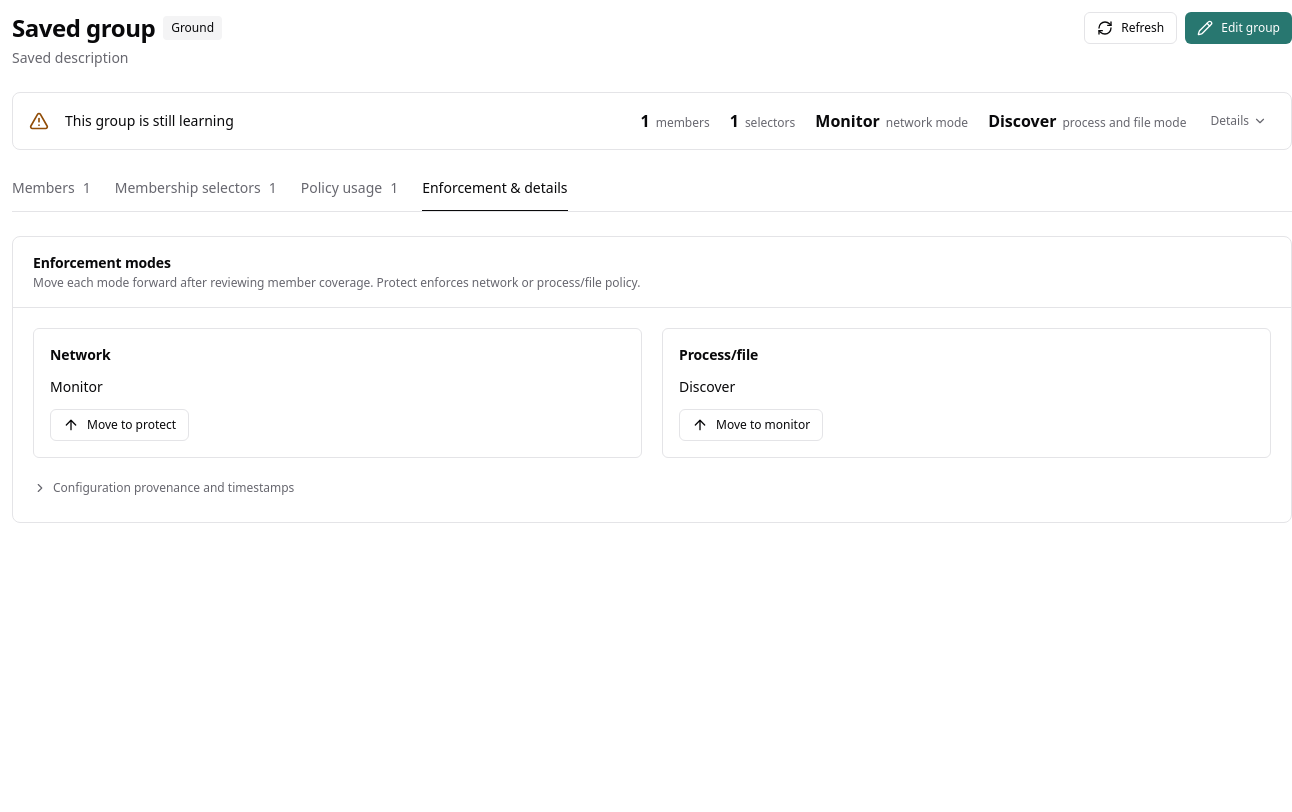
promotes a mode with cluster scope and renders mutation errors
This screenshot has width=1292, height=812.
Step 1. Click the button "Move to protect" → (120, 425), box top-left (50, 409), bottom-right (189, 441)
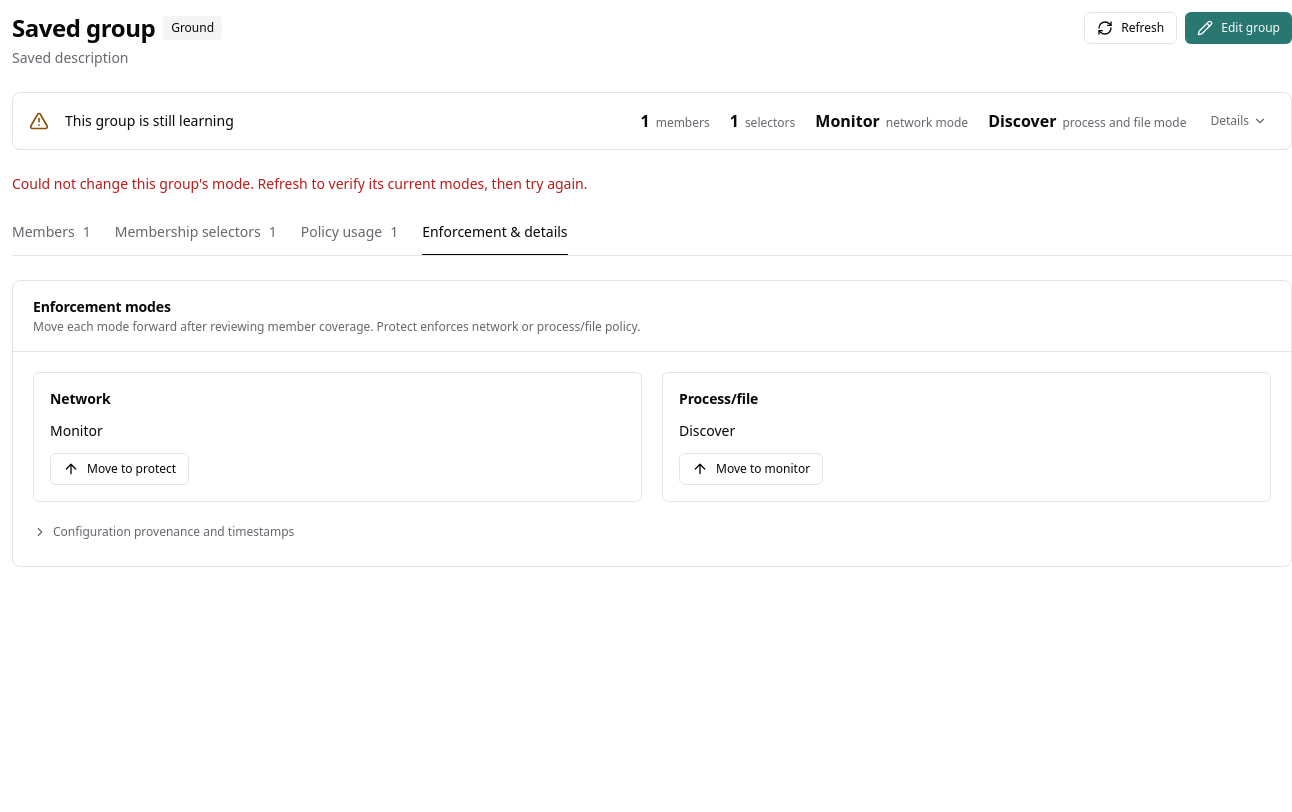
Expected: the text "Could not change this group's mode" is shown, top-left (12, 174), bottom-right (588, 193)
